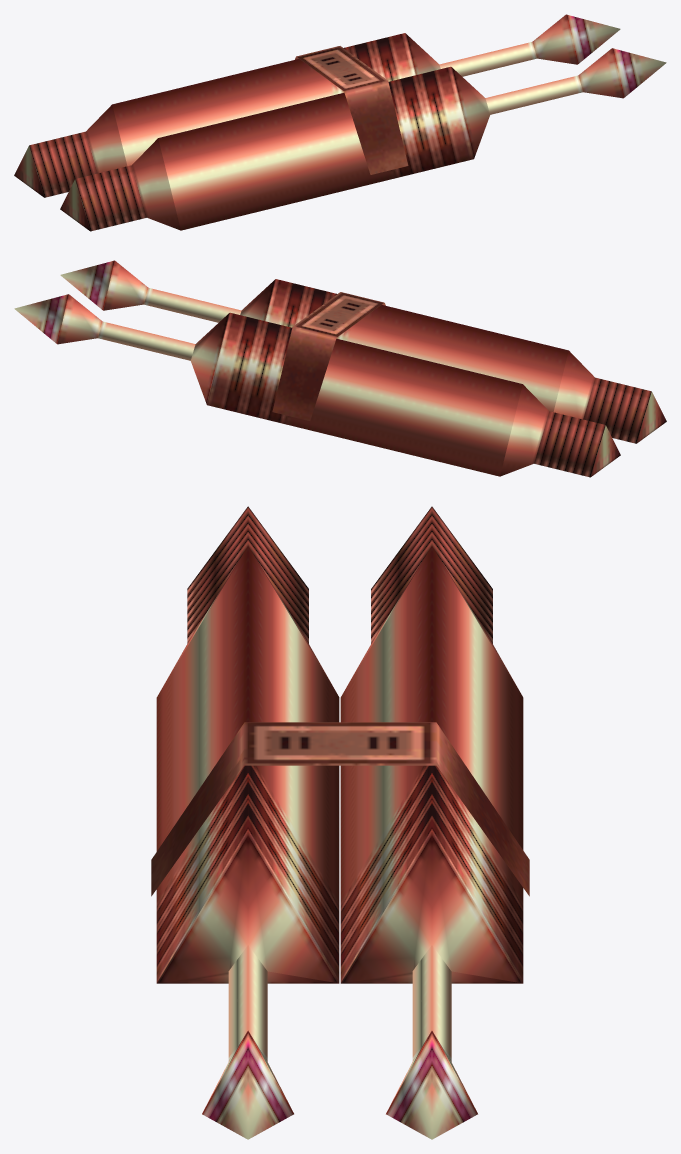
3 renders of one model, top to bottom at view 1: azimuth 30°, elevation 25°; view 2: azimuth 150°, elevation 25°; view 3: azimuth 270°, elevation 25°, orthographic. The views are drawn at different scales.
Parts seen in each view (by area): view 1: BW004; view 2: BW004; view 3: BW004.
Part boxes in pixels (x1,y1,x2,y2): BW004: [14, 14, 666, 231]; BW004: [14, 260, 666, 477]; BW004: [151, 506, 529, 1139].
Size of the model in its own units: 14.01 by 1.76 by 3.88.
Materials: 1 (1 with a texture image).
